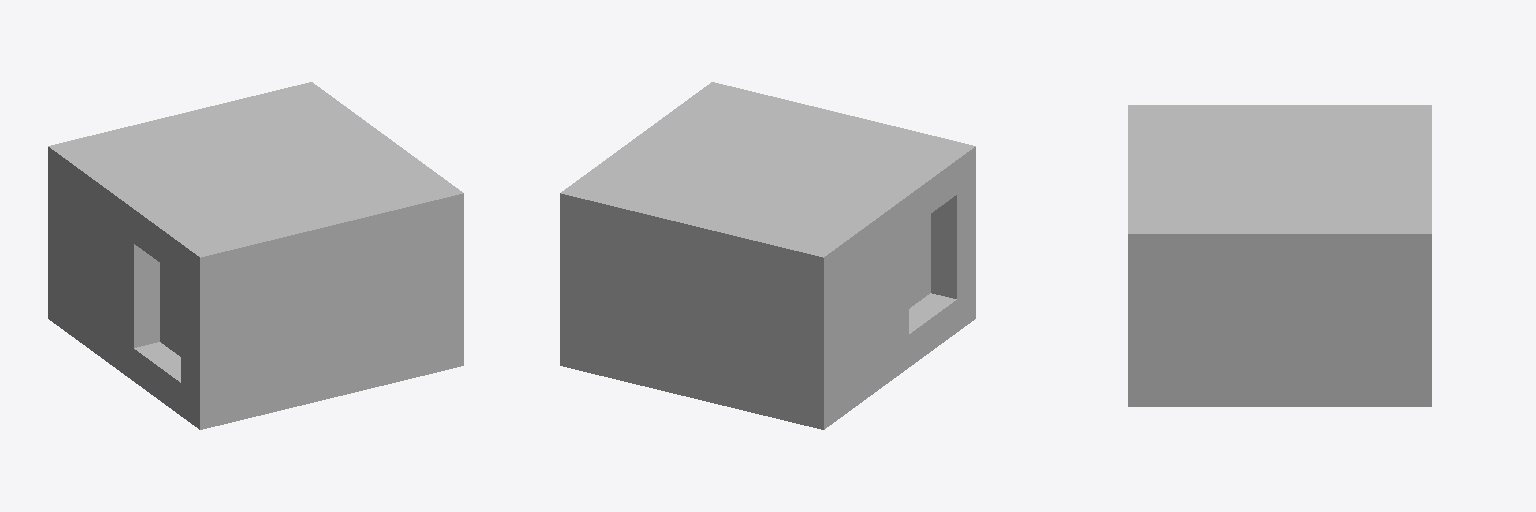
3 views of the same model, side by side, from view 1: azimuth 30°, elevation 25°; view 2: azimuth 150°, elevation 25°; view 3: azimuth 270°, elevation 25° (orthographic).
Parts seen in each view (by area): view 1: G-__556167_G-__556167_Brick, G-__556167_G-__556167_Glass; view 2: G-__556167_G-__556167_Brick, G-__556167_G-__556167_Glass; view 3: G-__556167_G-__556167_Brick.
Part boxes in pixels (bbox=[...]): G-__556167_G-__556167_Brick: bbox=[48, 82, 463, 429]; G-__556167_G-__556167_Glass: bbox=[160, 263, 180, 356]; G-__556167_G-__556167_Brick: bbox=[560, 82, 975, 429]; G-__556167_G-__556167_Glass: bbox=[909, 214, 930, 308]; G-__556167_G-__556167_Brick: bbox=[1128, 105, 1431, 406].
Bounding box in the file's own units: 1 × 0.625 × 1.